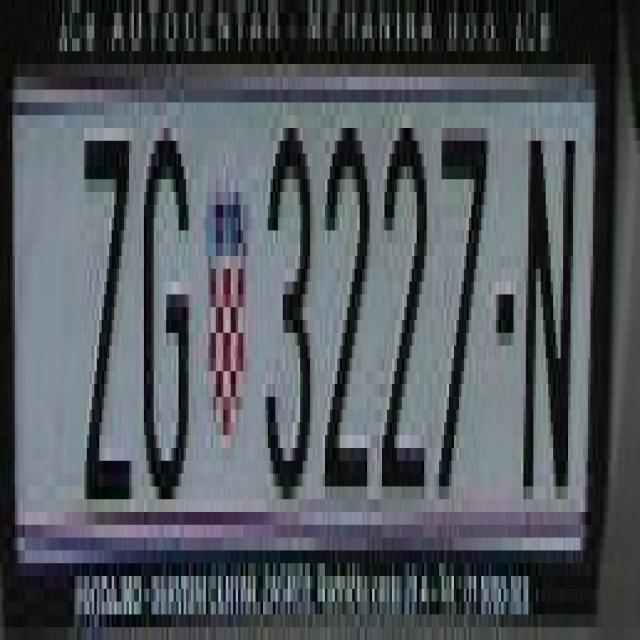2: (320, 128, 377, 512), (379, 116, 426, 487)
3: (266, 115, 312, 525)
7: (429, 115, 489, 512)
G: (139, 115, 191, 499)
N: (513, 115, 578, 525)
Z: (79, 115, 139, 499)
